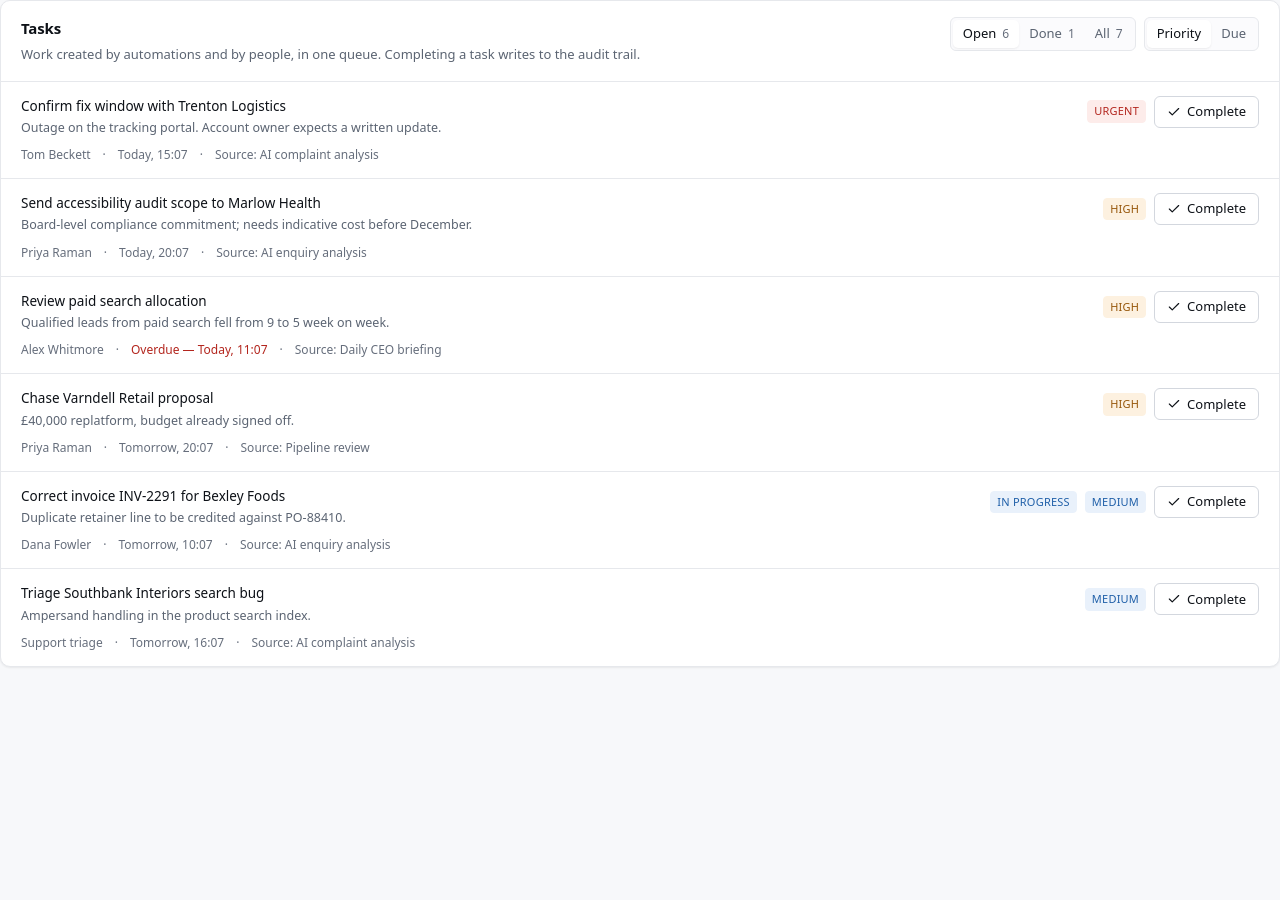
Test case: TasksPage › completes a task, removes it from the open list and records it in the audit trail
Click the button "Complete" next to "urgent": [1206, 112] box top-left (1154, 96), bottom-right (1259, 128)
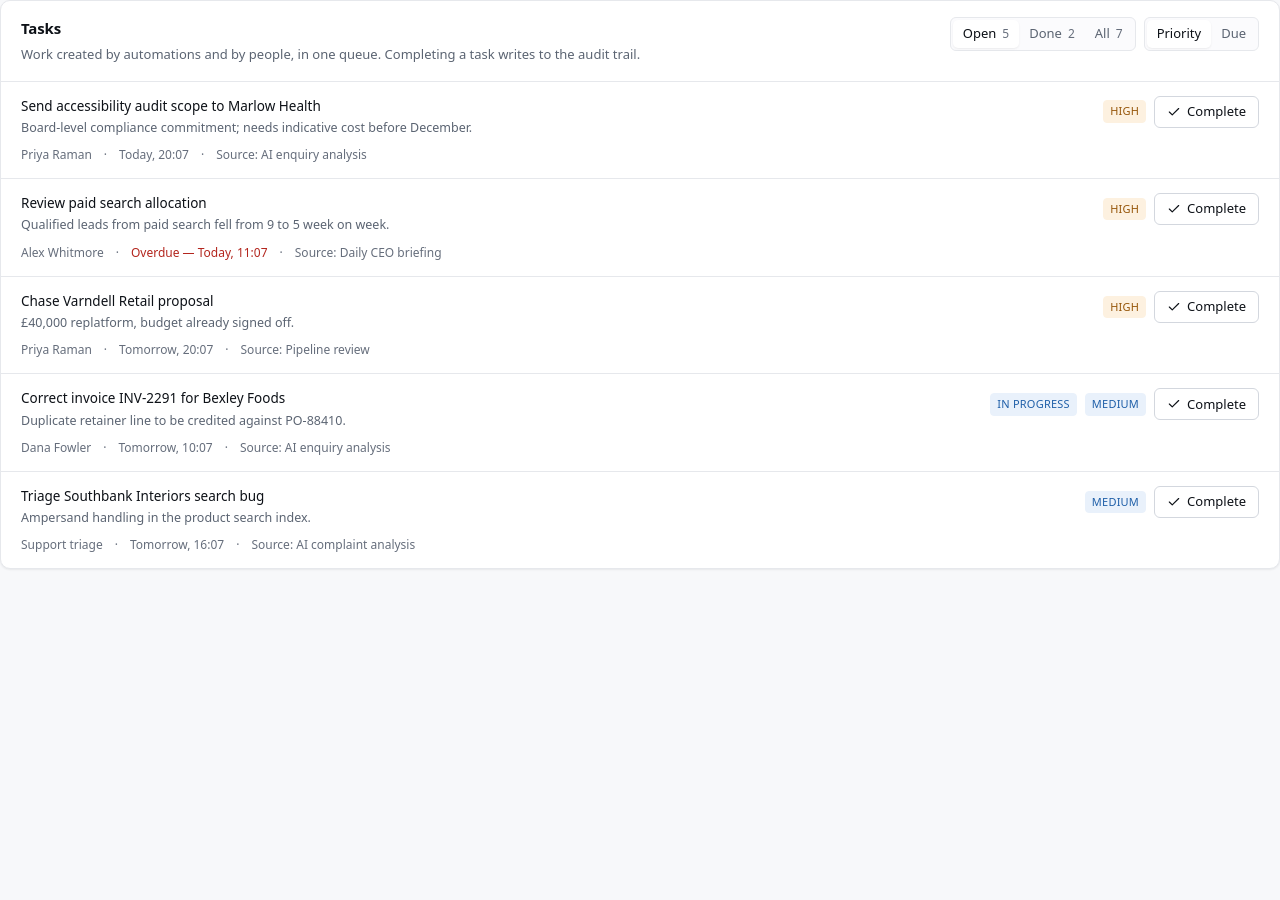
expect the text "Confirm fix window with Trenton Logistics" is gone: met
